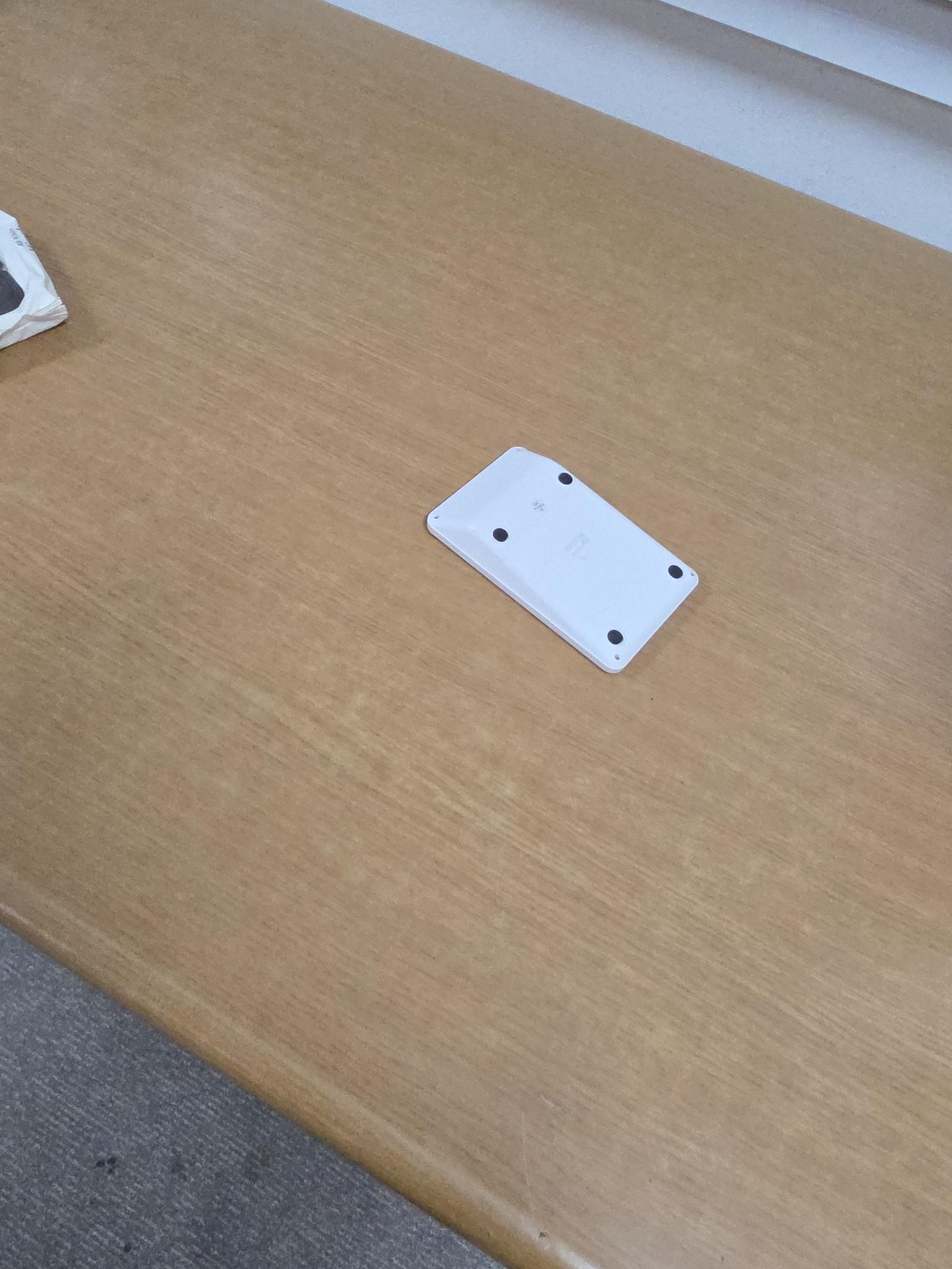calculator: (426, 446, 700, 674)
tissue: (0, 209, 68, 350)
